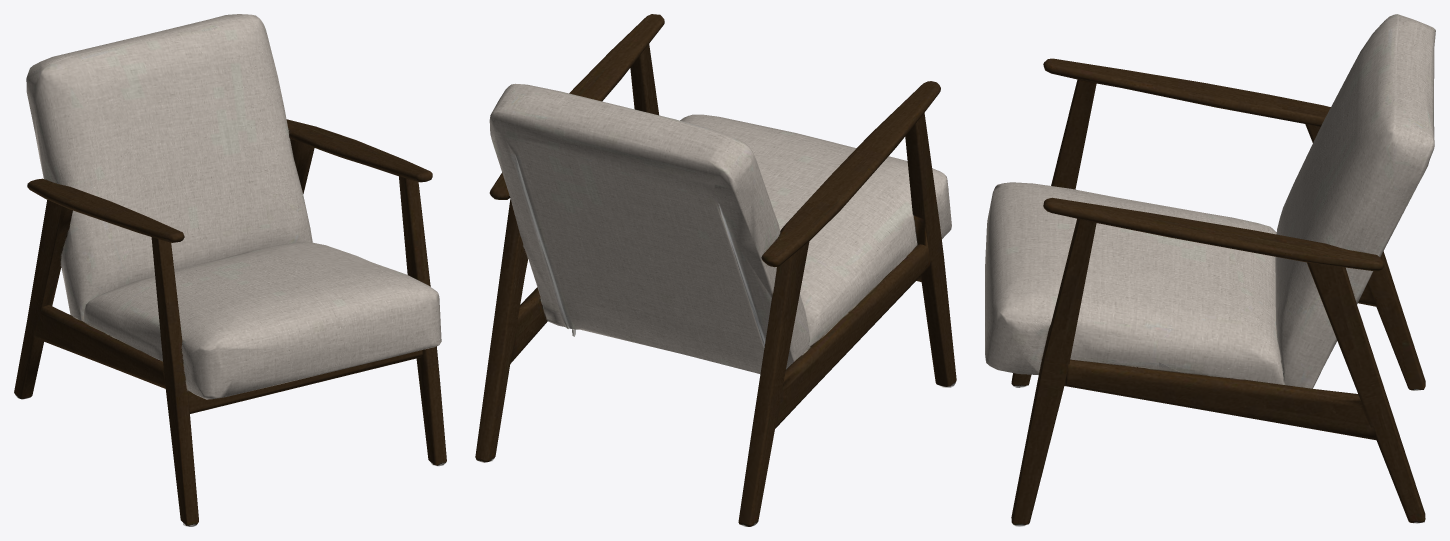
3 renders of one model, left to right at view 1: azimuth 30°, elevation 25°; view 2: azimuth 150°, elevation 25°; view 3: azimuth 270°, elevation 25°, orthographic. The views are drawn at different scales.
Parts seen in each view (by area): view 1: 90533174-EKENÃƒâ€žSET001; view 2: 90533174-EKENÃƒâ€žSET001; view 3: 90533174-EKENÃƒâ€žSET001.
Boxes of the visible parts, bbox=[...] form: 90533174-EKENÃƒâ€žSET001: bbox=[14, 14, 446, 526]; 90533174-EKENÃƒâ€žSET001: bbox=[475, 14, 956, 526]; 90533174-EKENÃƒâ€žSET001: bbox=[985, 14, 1435, 526].
Bounding box in the file's own units: 0.6477 × 0.7553 × 0.7956.
Materials: 1 (1 with a texture image).
